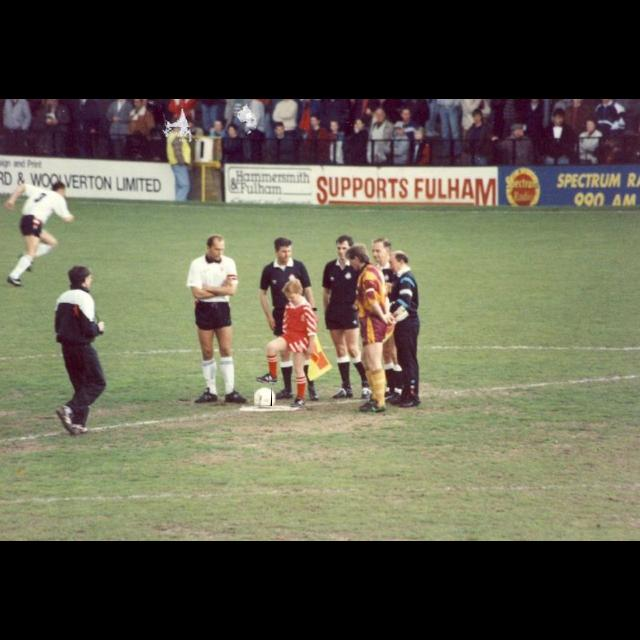Football: (254, 386, 272, 406)
